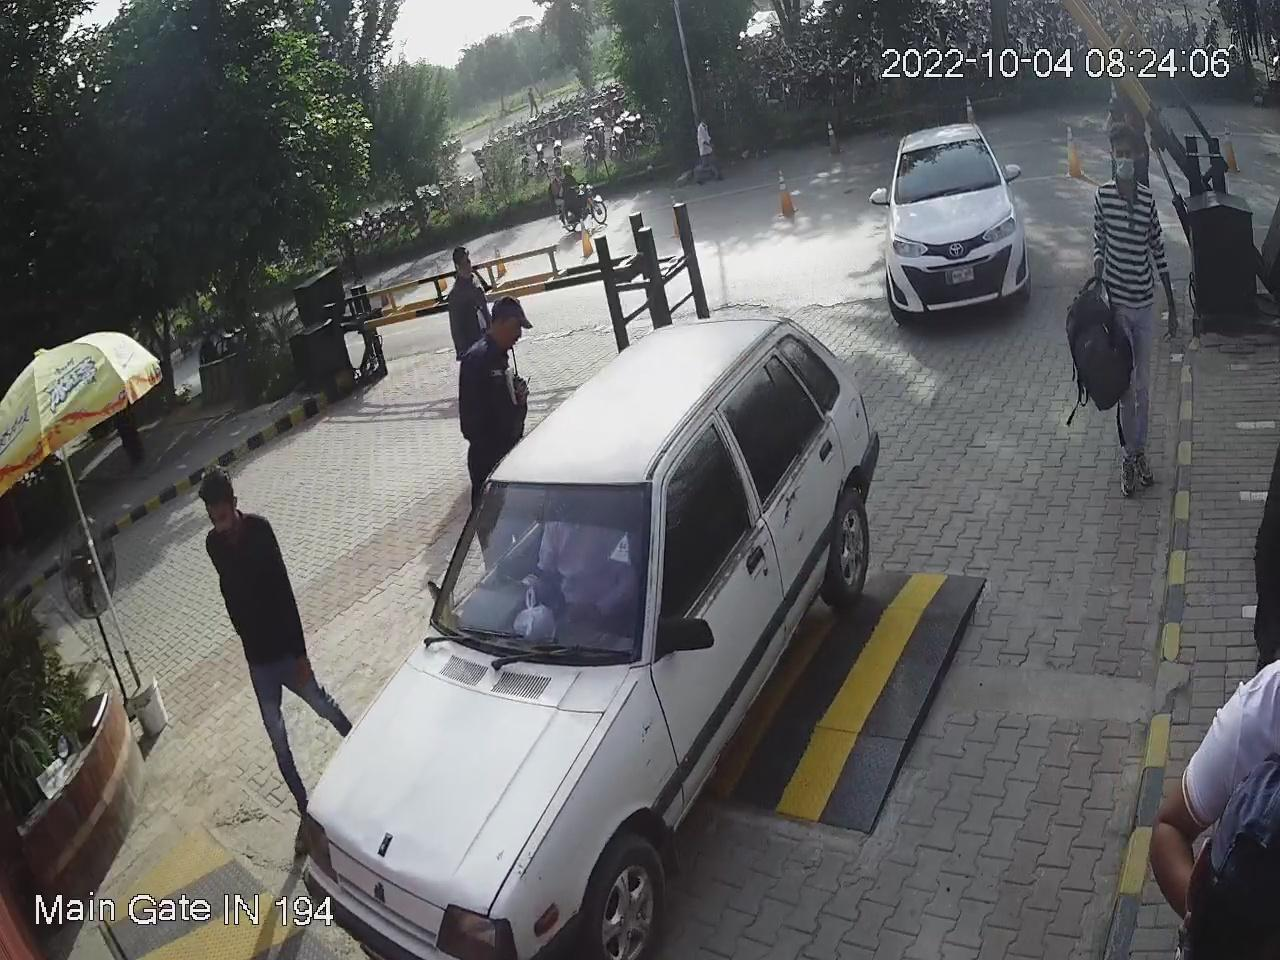windshield: (430, 475, 663, 670), (895, 137, 1010, 208)
